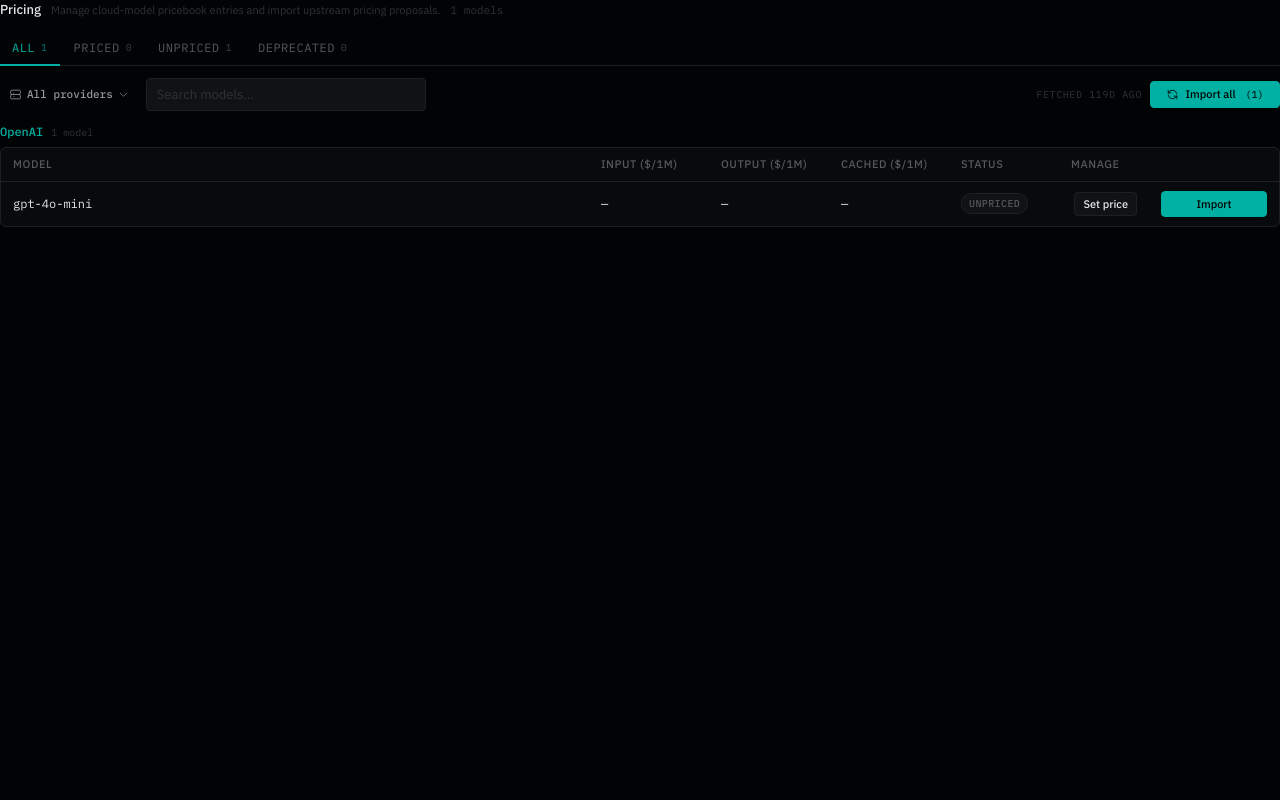
Test case: PricebookTab Import all → consent SlideOver › clicking 'Import all' opens a SlideOver listing only catalog cloud changes
This screenshot has width=1280, height=800.
Click the button "Import all (1)".
click(1215, 94)  # box left=1150, top=81, right=1279, bottom=108
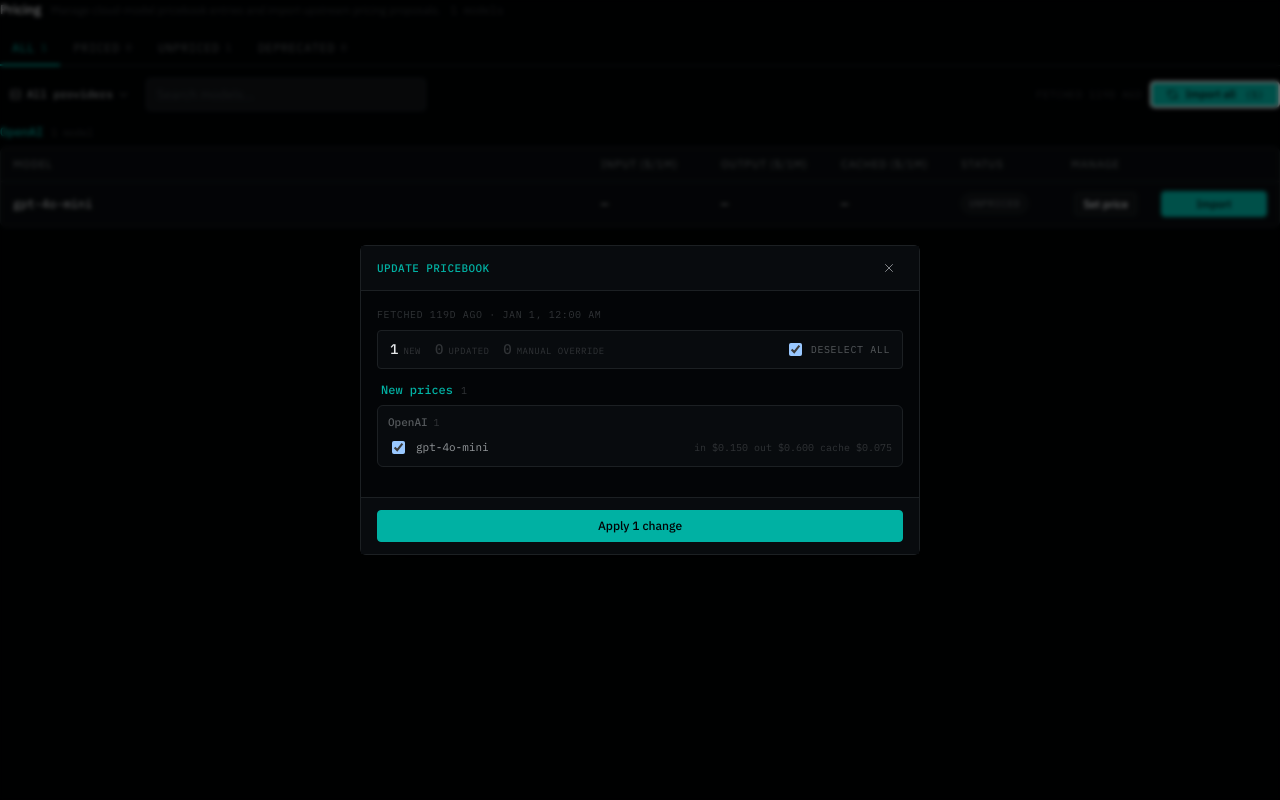
Now the text "gpt-4o-mini" is shown, box left=416, top=440, right=489, bottom=454
